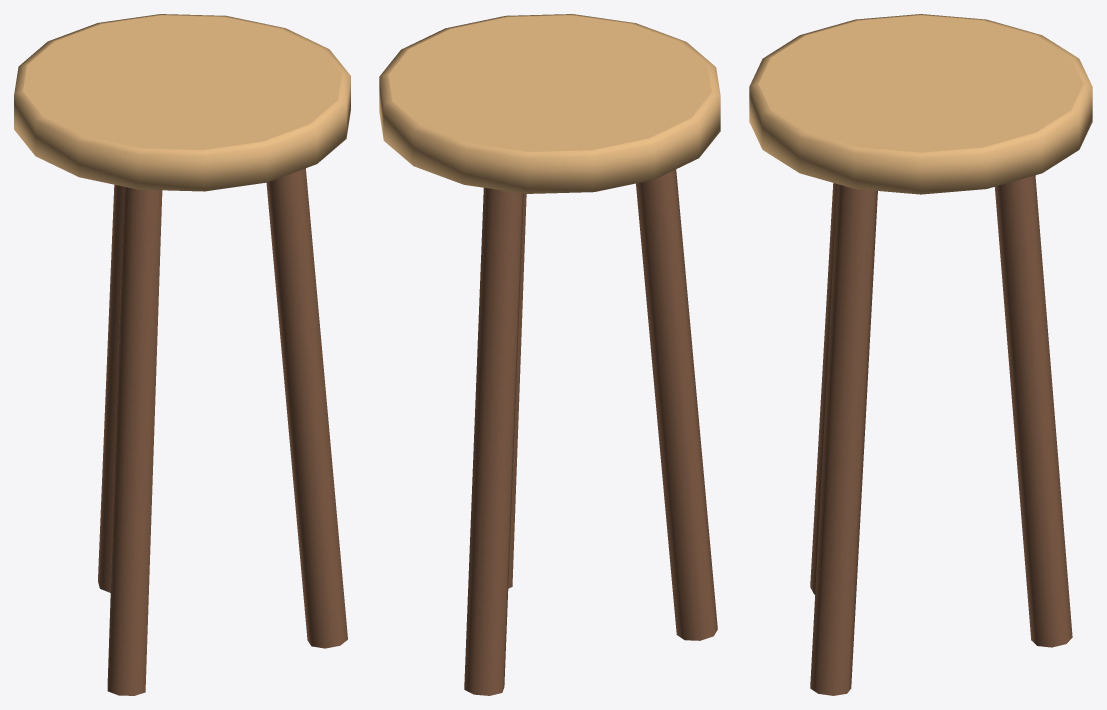
The model's file is kit_stool_v1.glb.
3 views of the same model, side by side, from view 1: azimuth 30°, elevation 25°; view 2: azimuth 150°, elevation 25°; view 3: azimuth 270°, elevation 25° (orthographic).
Parts seen in each view (by area): view 1: body; view 2: body; view 3: body.
Part boxes in pixels (left/top/right/bottom): body: left=14, top=14, right=350, bottom=695; body: left=379, top=14, right=720, bottom=695; body: left=749, top=14, right=1092, bottom=695.
Size of the model in its own units: 0.38 by 0.68 by 0.38.
